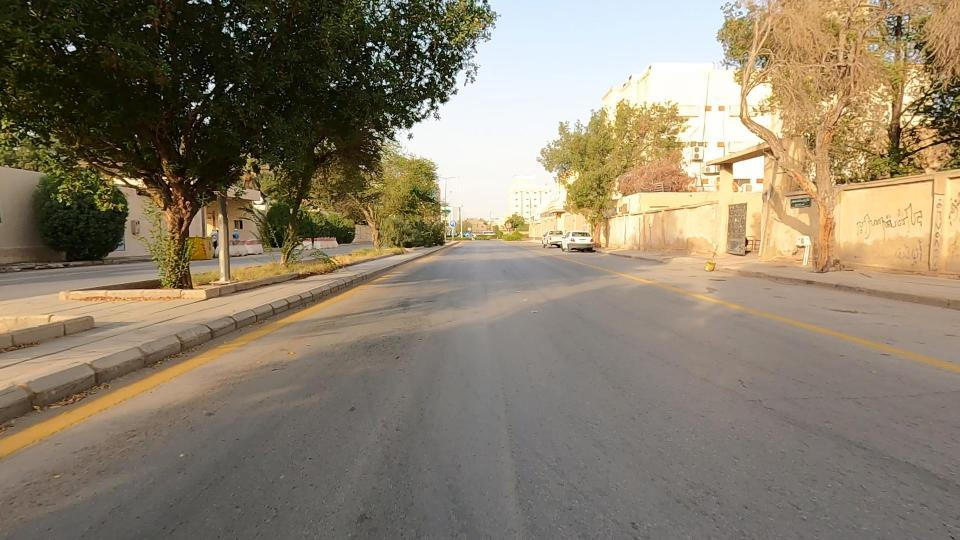GARBAGE: (682, 229, 736, 301)
GRAFFITI: (804, 166, 960, 277), (911, 138, 960, 315)
